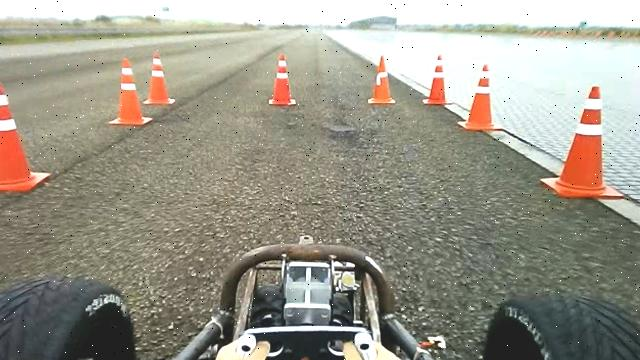red cone: (540, 84, 625, 199), (0, 80, 52, 192), (108, 56, 153, 126), (458, 63, 503, 132), (143, 52, 176, 105), (422, 53, 454, 105), (268, 53, 297, 107), (368, 54, 396, 104)
